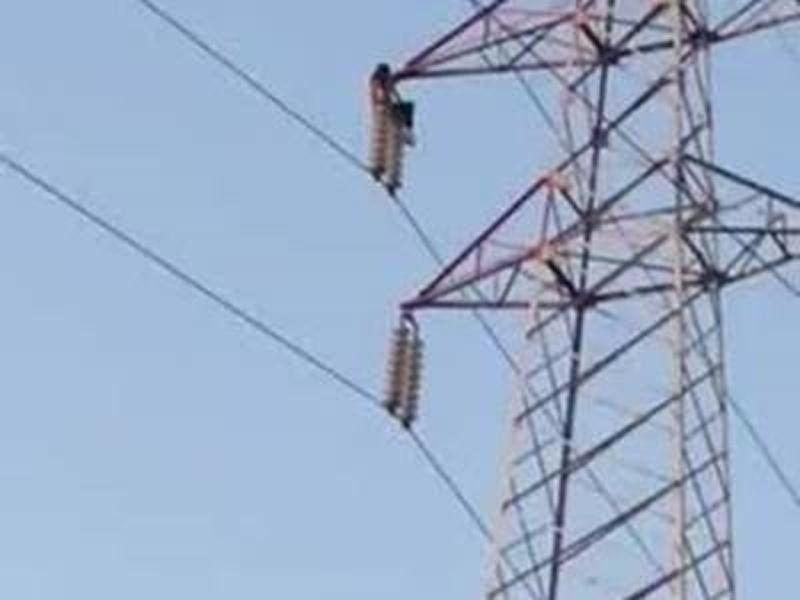power_tower: (331, 4, 786, 594)
